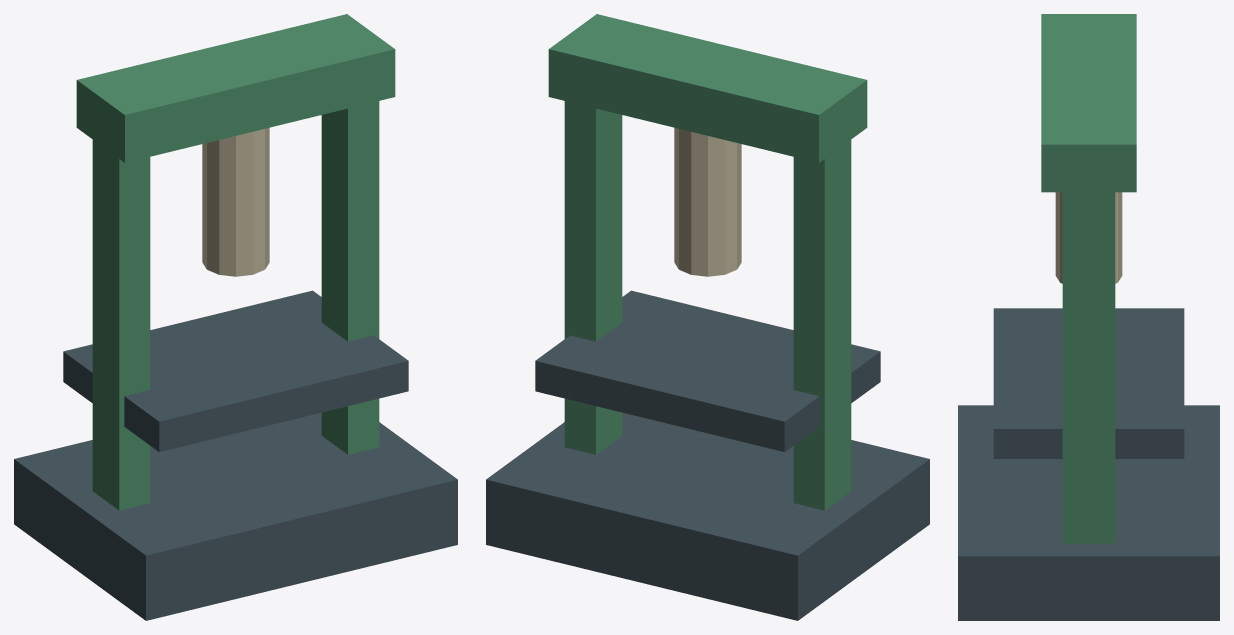
Rendered from industrial_press.glb.
3 views of the same model, side by side, from view 1: azimuth 30°, elevation 25°; view 2: azimuth 150°, elevation 25°; view 3: azimuth 270°, elevation 25° (orthographic).
Visible parts, largest first — view 1: industrial_press; view 2: industrial_press; view 3: industrial_press.
Boxes of the visible parts, left/top/right/bottom form: industrial_press: left=14, top=14, right=457, bottom=620; industrial_press: left=486, top=14, right=929, bottom=620; industrial_press: left=958, top=14, right=1219, bottom=620.
Bounding box in the file's own units: 1.5 × 2.16 × 1.1.
